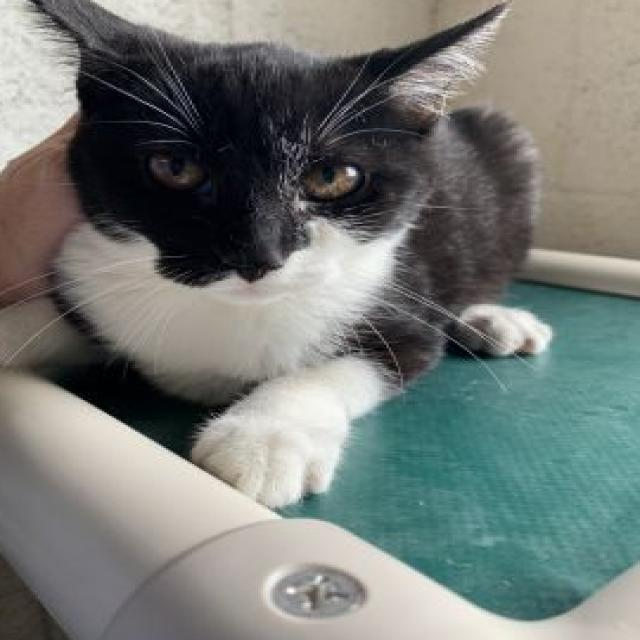Tuxedo: (0, 0, 559, 512)
